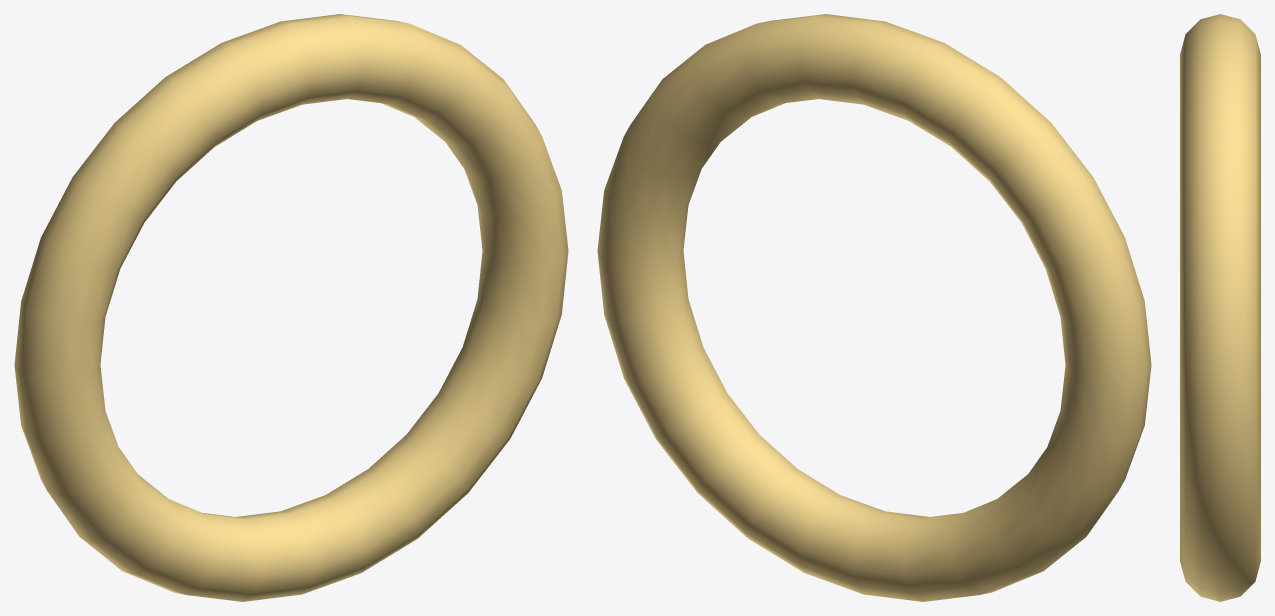
The model's file is halo.glb.
3 renders of one model, left to right at view 1: azimuth 30°, elevation 25°; view 2: azimuth 150°, elevation 25°; view 3: azimuth 270°, elevation 25°, orthographic. The views are drawn at different scales.
Visible parts, largest first — view 1: Halo; view 2: Halo; view 3: Halo.
Part boxes in pixels (<box>): Halo: <box>14,14,568,601</box>; Halo: <box>597,14,1151,601</box>; Halo: <box>1180,14,1260,601</box>.
Size of the model in its own units: 0.51 by 0.51 by 0.07.
